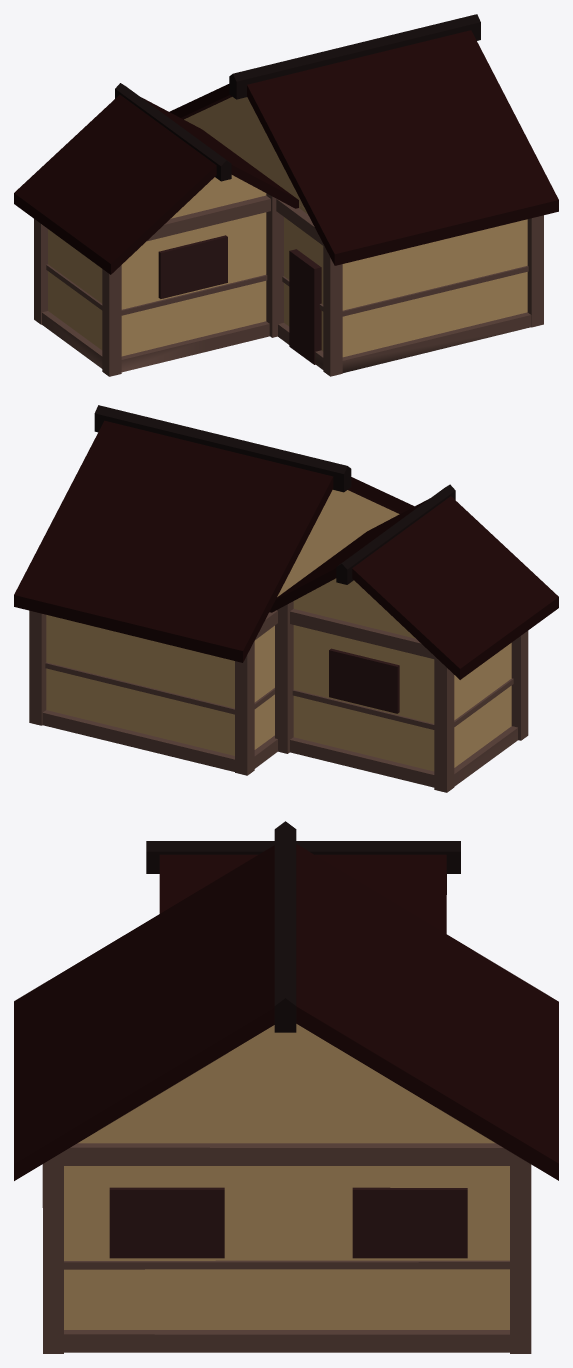
Rendered from FarmHouse(2).fbx.
3 views of the same model, one above another, from view 1: azimuth 30°, elevation 25°; view 2: azimuth 150°, elevation 25°; view 3: azimuth 270°, elevation 25° (orthographic). The views are drawn at different scales.
Visible parts, largest first — view 1: FarmHouse(2); view 2: FarmHouse(2); view 3: FarmHouse(2).
Boxes of the visible parts, <box> form: FarmHouse(2): <box>14,14,558,376</box>; FarmHouse(2): <box>14,405,558,792</box>; FarmHouse(2): <box>14,821,558,1353</box>.
Size of the model in its own units: 8.92 by 5.16 by 6.94.
